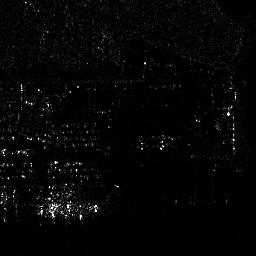ship: (35, 202, 99, 219)
